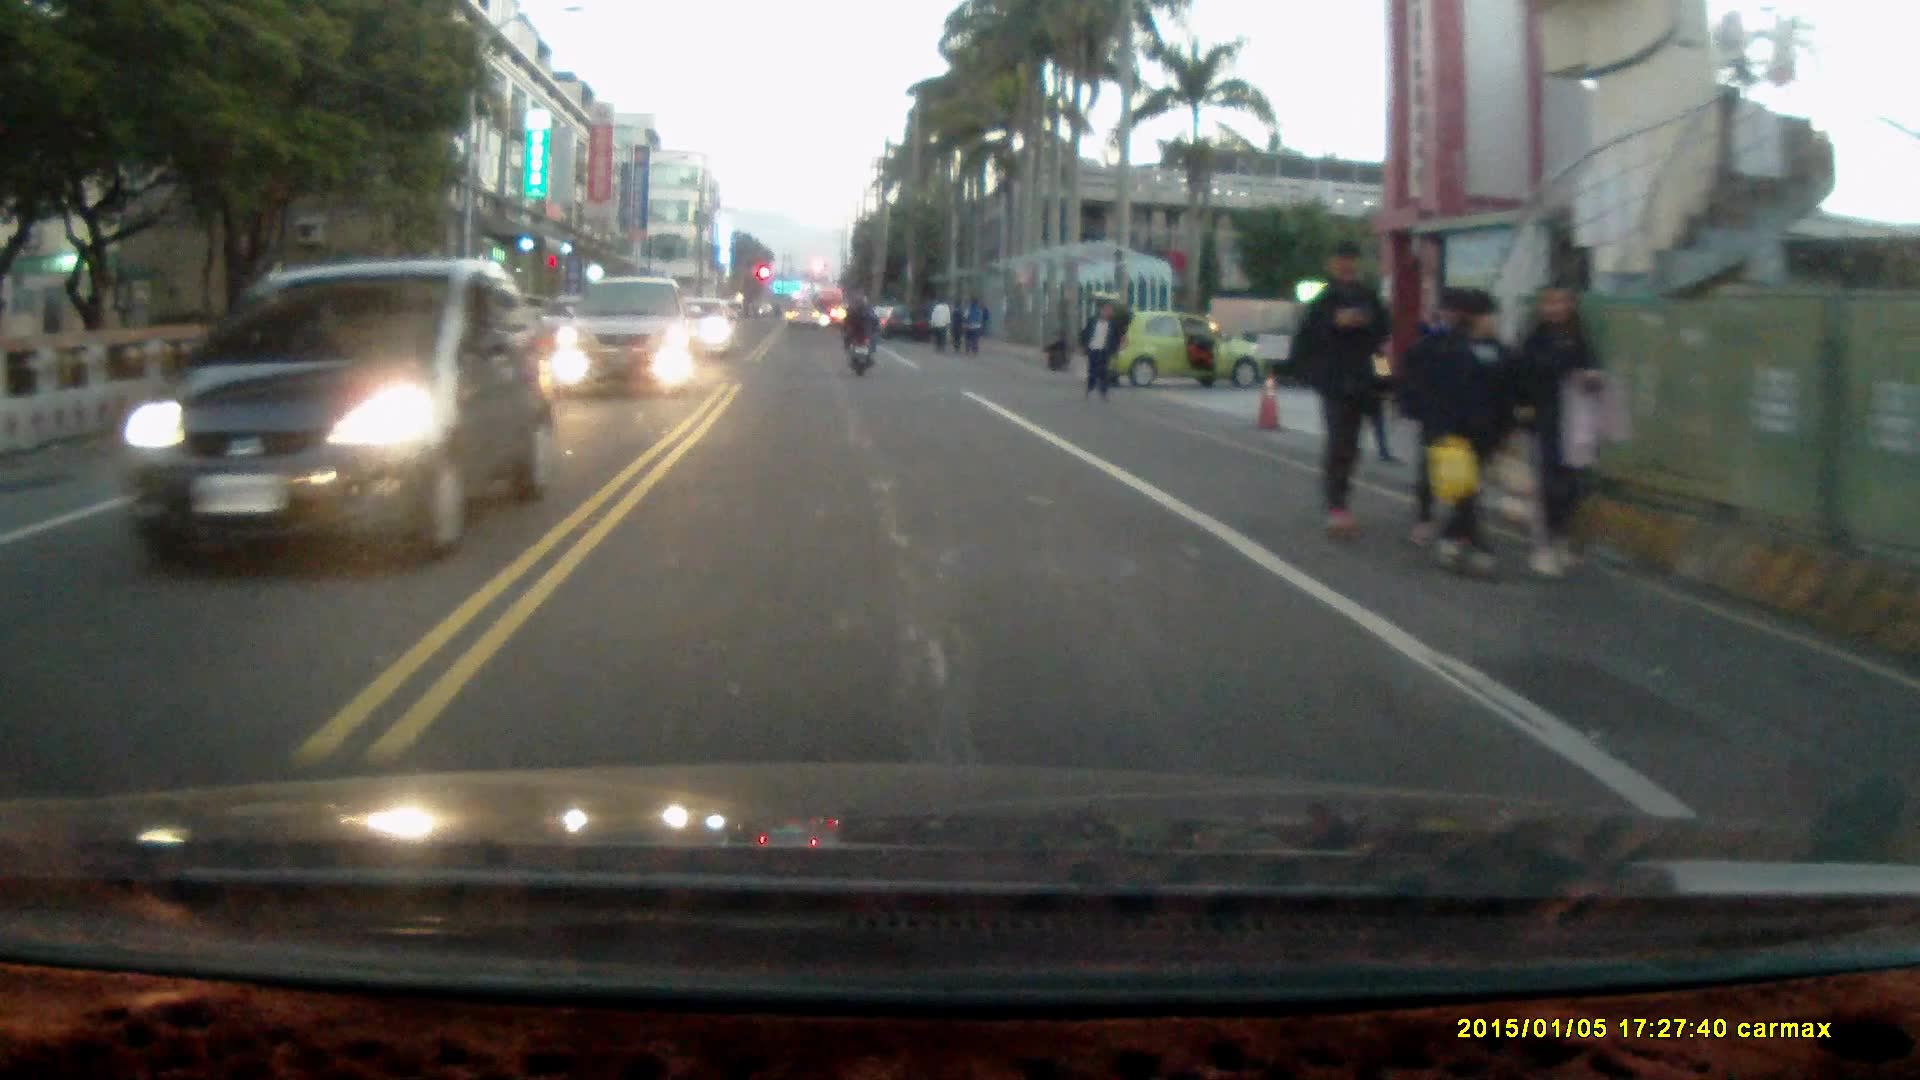pedestrian: (1414, 283, 1521, 581), (1509, 278, 1606, 586), (1293, 237, 1389, 549), (1074, 297, 1116, 405), (959, 294, 985, 356), (1038, 323, 1070, 373), (930, 290, 951, 356)
rider: (838, 293, 879, 379)
vehicle: (63, 257, 543, 573), (1085, 294, 1259, 390), (555, 275, 698, 392)
